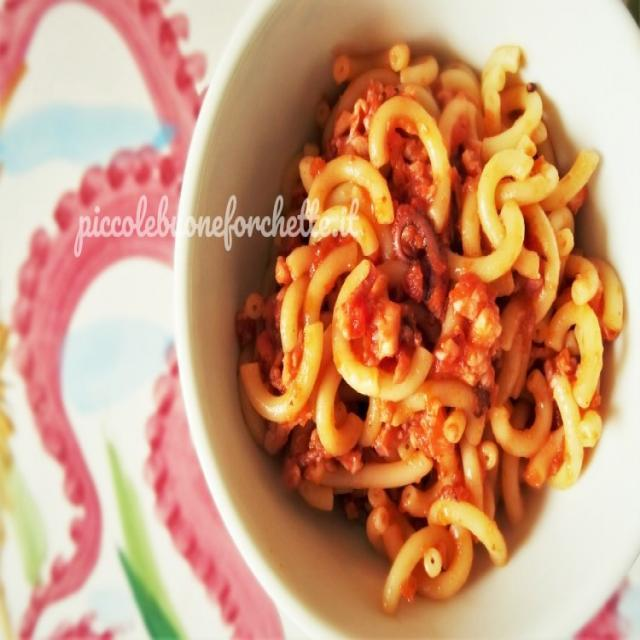Pasta al ragu: (261, 37, 613, 561)
